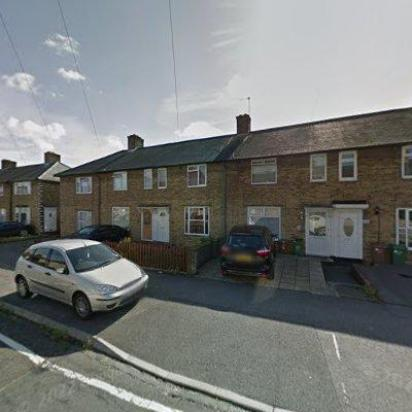stationary-car-offstreet: (220, 222, 278, 284), (72, 223, 130, 244), (0, 219, 38, 242)
stationary-car-onstreet: (12, 237, 150, 321)
